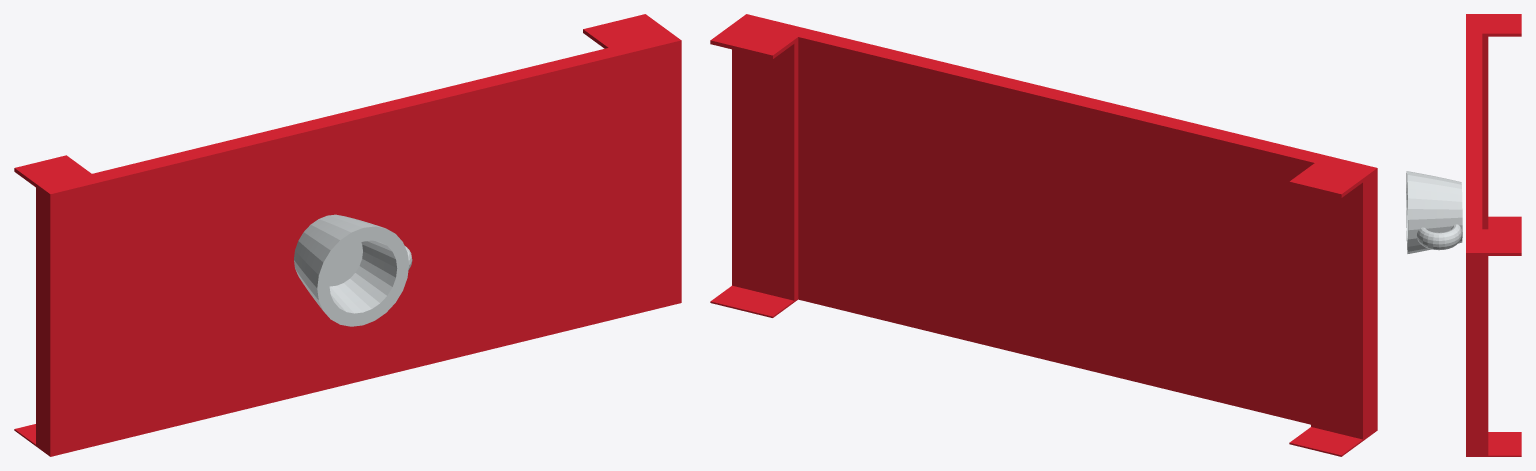
The model's file is tinker.obj.
The picture shows the model from 3 angles, left to right: view 1: azimuth 30°, elevation 25°; view 2: azimuth 150°, elevation 25°; view 3: azimuth 270°, elevation 25°; orthographic projection. The views are drawn at different scales.
Visible parts, largest first — view 1: group_0_15277357, group_0_14541540; view 2: group_0_15277357; view 3: group_0_15277357, group_0_14541540.
Part boxes in pixels (x1=…): group_0_15277357: x1=14, y1=14, x2=681, y2=456; group_0_14541540: x1=294, y1=214, x2=412, y2=326; group_0_15277357: x1=710, y1=14, x2=1377, y2=456; group_0_15277357: x1=1466, y1=14, x2=1521, y2=456; group_0_14541540: x1=1406, y1=171, x2=1462, y2=253.
Bounding box in the file's own units: 172 × 68.41 × 35.16.
